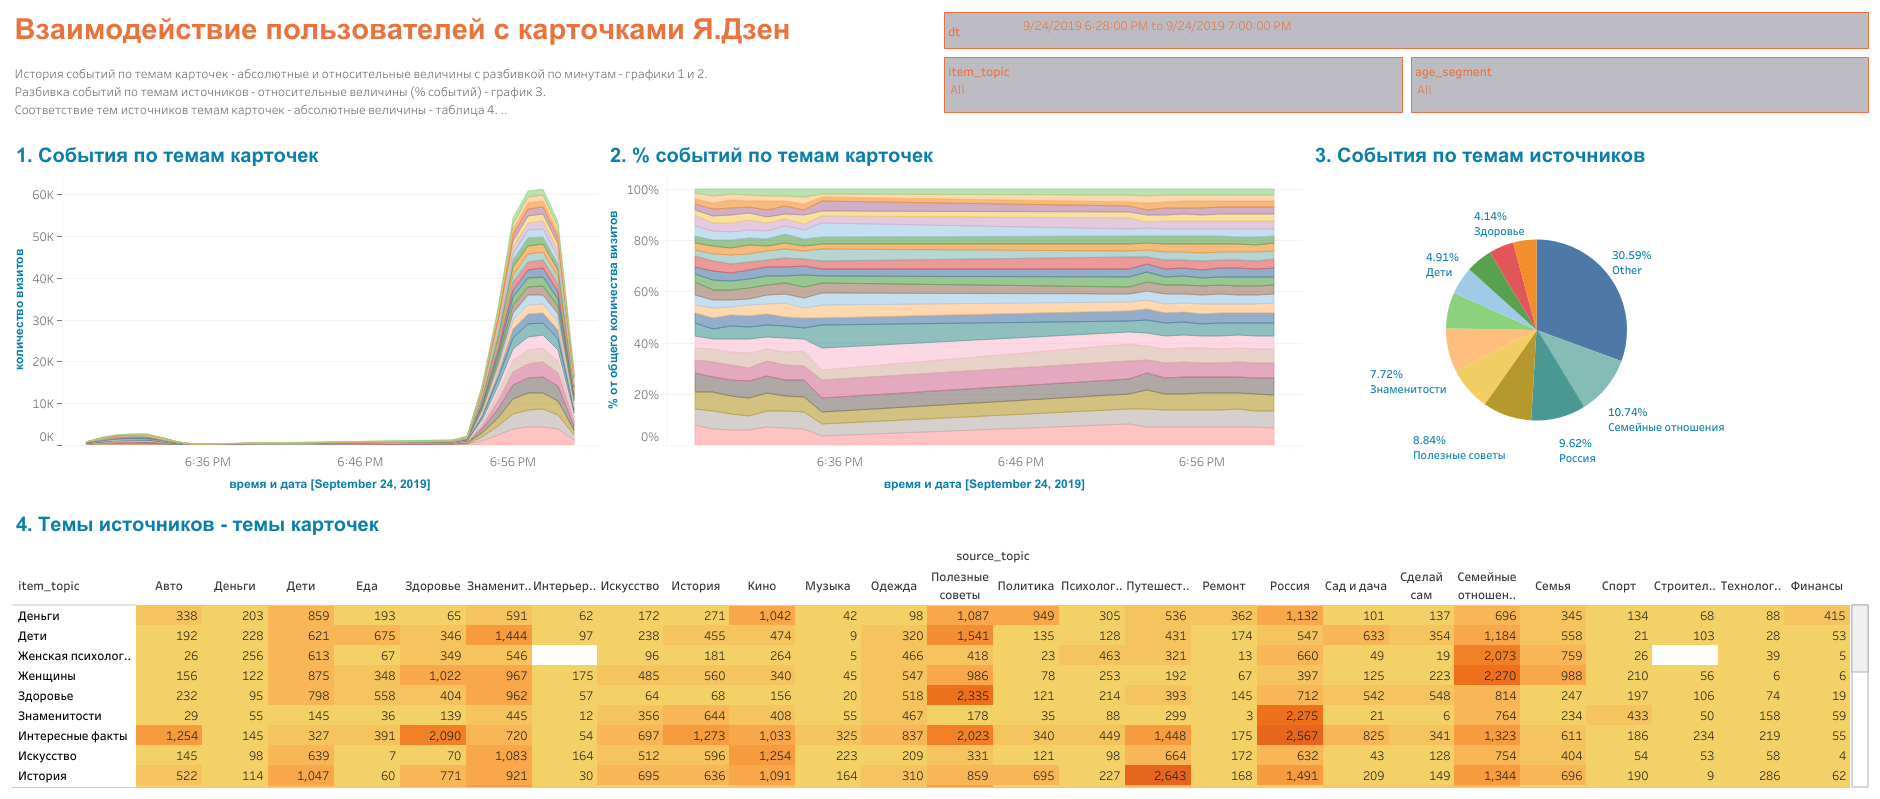

Layout of this report page (visuals, bound fields, positions):
{"tool":"tableau","page":{"name":"Dashboard 1","canvas":[1000,1000],"units":"permille","ordinal":0},"visuals":[{"type":"text","box":[4.7,8.8,495.3,45.4]},{"type":"filter","title":"stacked chart отн ","param":"[federated.1im4q3f0d5hz6v1g3v8po11vcwl3].[none:dt:qk]","box":[500,8.8,495.3,56.1]},{"type":"filter","title":"stacked chart отн ","param":"[federated.1im4q3f0d5hz6v1g3v8po11vcwl3].[none:item_topic:nk]","box":[500,65,247.5,66.4]},{"type":"filter","title":"stacked chart отн ","param":"[federated.1im4q3f0d5hz6v1g3v8po11vcwl3].[none:age_segment:nk]","box":[747.5,65,247.8,66.4]},{"type":"text","box":[4.7,65.1,495.3,84.1]},{"type":"worksheet","title":"stacked chart абс","mark":"Area","rows":["visits"],"cols":["dt"],"box":[4.7,165.9,315.4,462.4]},{"type":"worksheet","title":"stacked chart отн ","mark":"Area","cols":["dt"],"box":[320.1,165.9,374.3,462.4]},{"type":"worksheet","title":"pie","mark":"Pie","box":[694.4,165.9,300.9,391.6]},{"type":"worksheet","title":"table+","mark":"Square","rows":["item_topic"],"cols":["source_topic"],"box":[4.7,628.2,990.6,334.1]}]}

Visuals, with their boxes on the dashboard's canvas, which has no fixed pixel size, in thousandths of its width and height (x1, y1, x2, y2). These are canvas units, not pixel positions in the 1880x799 screenshot, which may show the page scaled, cropped or inside an application window:
text: (5,9,500,54)
"stacked chart отн " filter: (500,9,995,65)
"stacked chart отн " filter: (500,65,748,131)
"stacked chart отн " filter: (748,65,995,131)
text: (5,65,500,149)
"stacked chart абс" worksheet (Area marks): (5,166,320,628)
"stacked chart отн " worksheet (Area marks): (320,166,694,628)
"pie" worksheet (Pie marks): (694,166,995,558)
"table+" worksheet (Square marks): (5,628,995,962)
